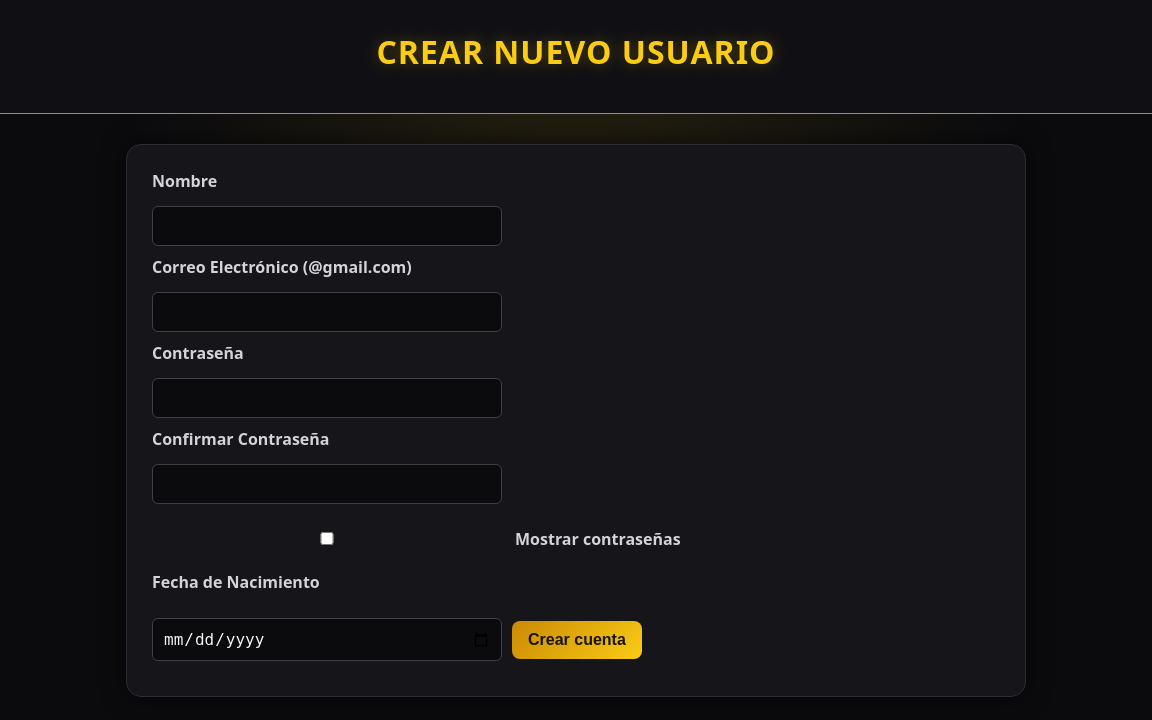
Scenario: Componente Registro › muestra error si la contraseña no tiene 8 caracteres
This screenshot has width=1152, height=720.
Type "Juan" into the field labelled "Nombre" at (327, 226), box [152,206,502,246]
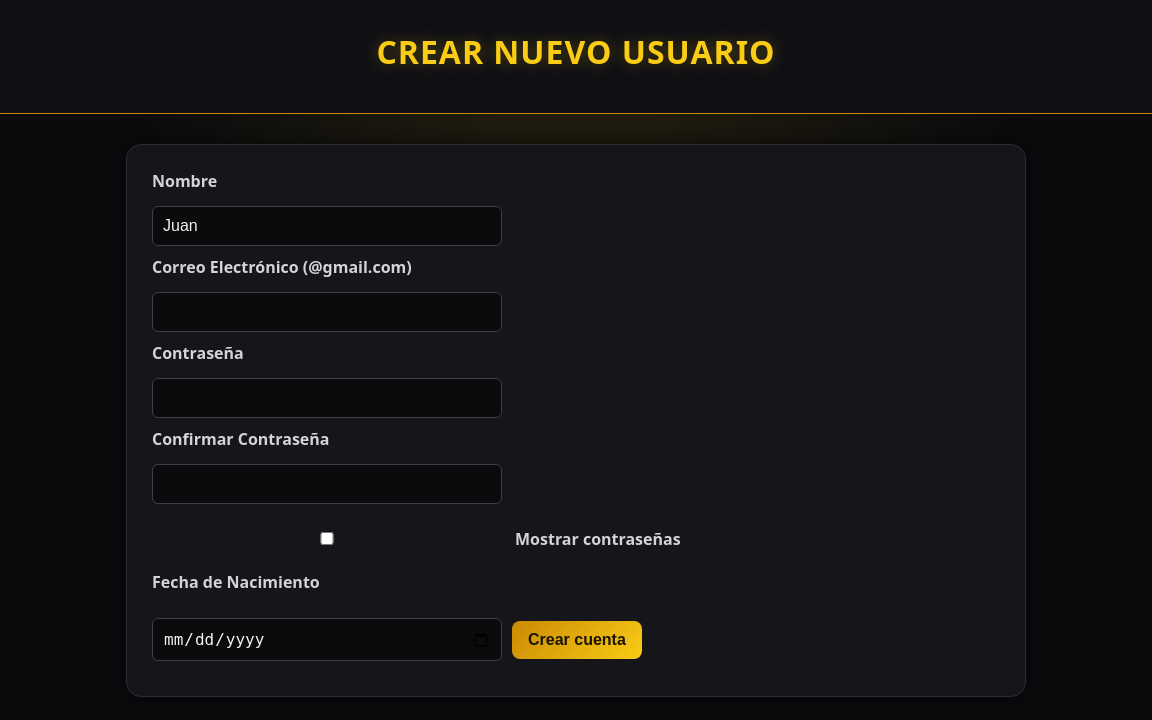
Type "123" into the password field labelled "Contraseña" at (327, 398), box [152,378,502,418]
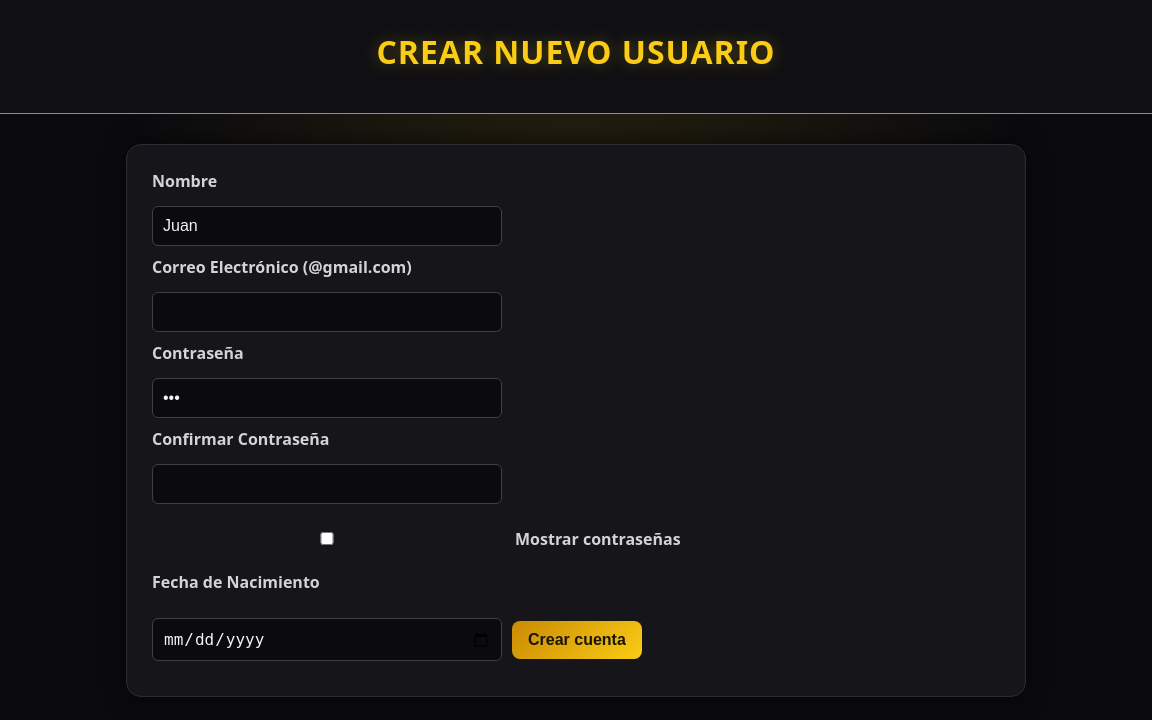
Click the button "Crear cuenta" at (577, 640), box [512,621,642,659]
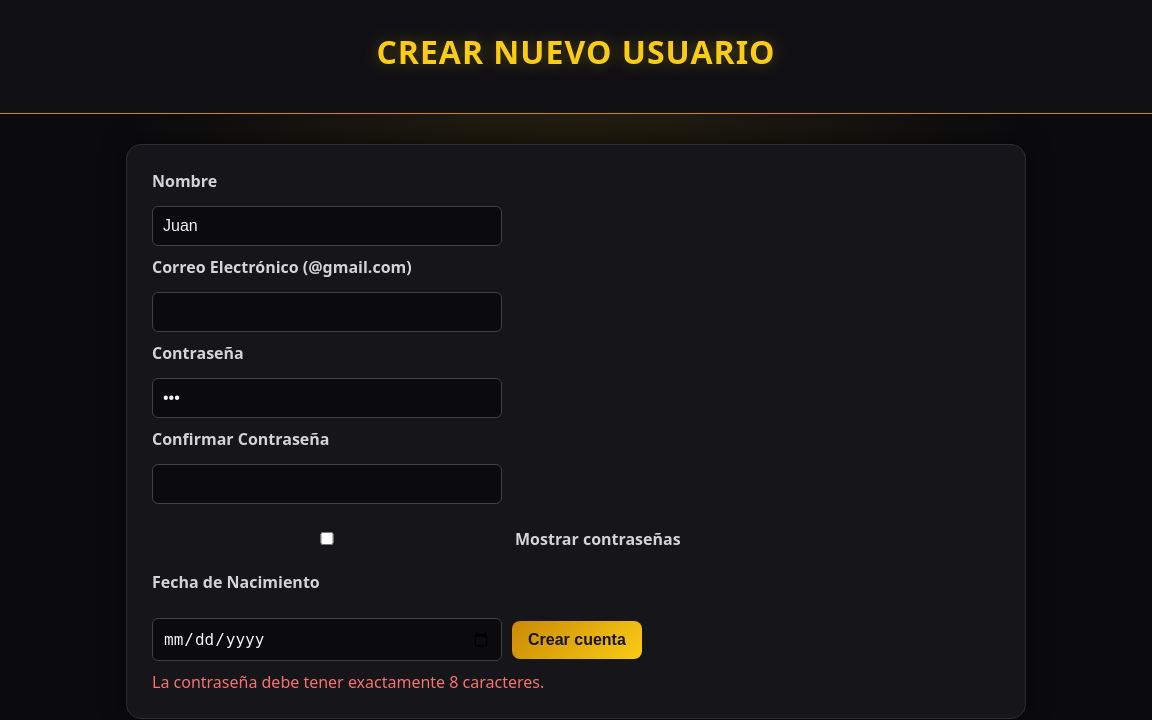
Expected: the text "La contraseña debe tener exactamente 8 caracteres." is shown, [152,671,544,693]
